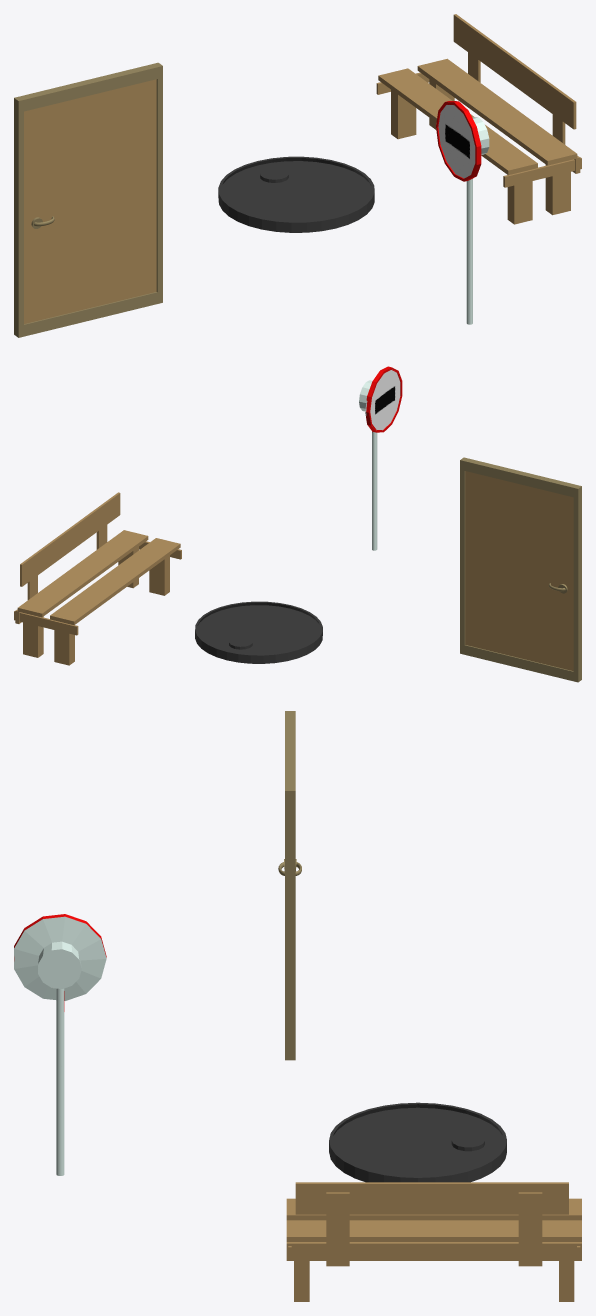
File: gena2.fbx
3 renders of one model, top to bottom at view 1: azimuth 30°, elevation 25°; view 2: azimuth 150°, elevation 25°; view 3: azimuth 270°, elevation 25°, orthographic. The views are drawn at different scales.
Visible parts, largest first — view 1: door, lavka, Cylinder, stop; view 2: door, lavka, Cylinder, stop; view 3: lavka, Cylinder, stop, door.
Part boxes in pixels (x1,y1,x2,y2): door: (14, 62, 162, 337); lavka: (376, 14, 581, 224); Cylinder: (218, 156, 374, 232); stop: (436, 101, 489, 324); door: (460, 457, 581, 682); lavka: (14, 492, 181, 665); Cylinder: (195, 601, 322, 663); stop: (359, 366, 402, 550); lavka: (286, 1182, 581, 1301); Cylinder: (329, 1102, 506, 1182); stop: (14, 914, 106, 1175); door: (278, 711, 301, 1060).
Size of the model in its own units: 502 by 211 by 385.
